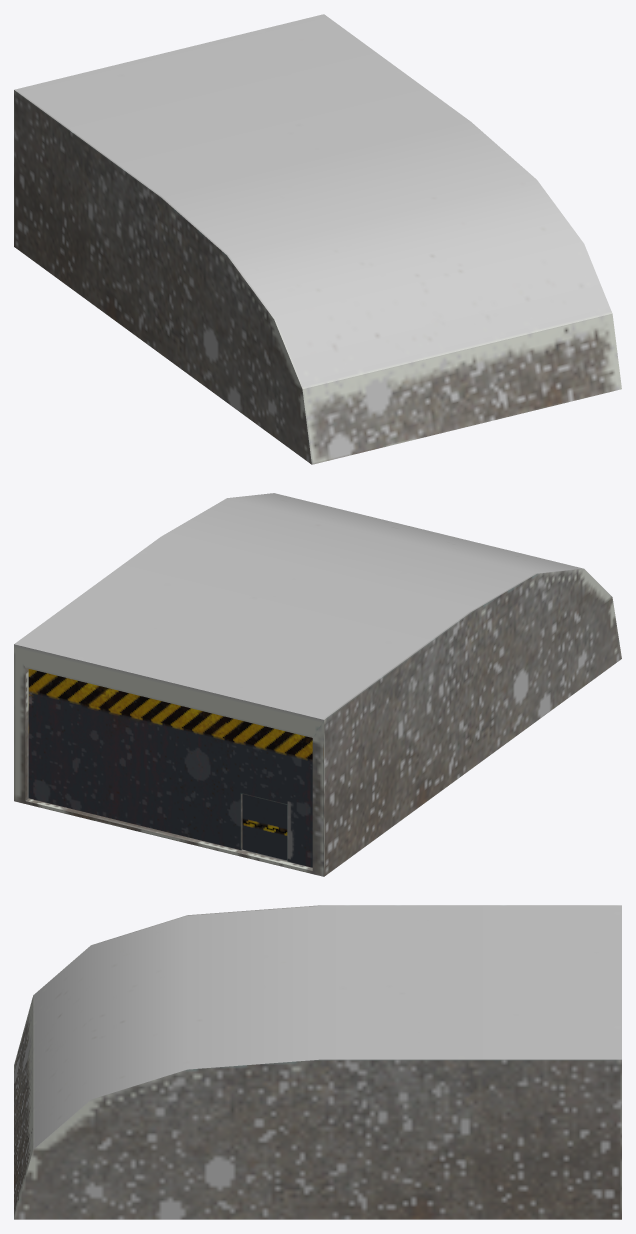
File: transp_lift.glb
The picture shows the model from 3 angles, top to bottom: view 1: azimuth 30°, elevation 25°; view 2: azimuth 150°, elevation 25°; view 3: azimuth 270°, elevation 25°; orthographic projection. The views are drawn at different scales.
Parts seen in each view (by area): view 1: Box001; view 2: Box001; view 3: Box001.
Boxes of the visible parts, x1=… form: Box001: x1=14, y1=14, x2=621, y2=464; Box001: x1=14, y1=493, x2=621, y2=876; Box001: x1=14, y1=905, x2=621, y2=1219.
Size of the model in its own units: 1.52 by 0.7375 by 2.54.
1 material, 1 textured.
